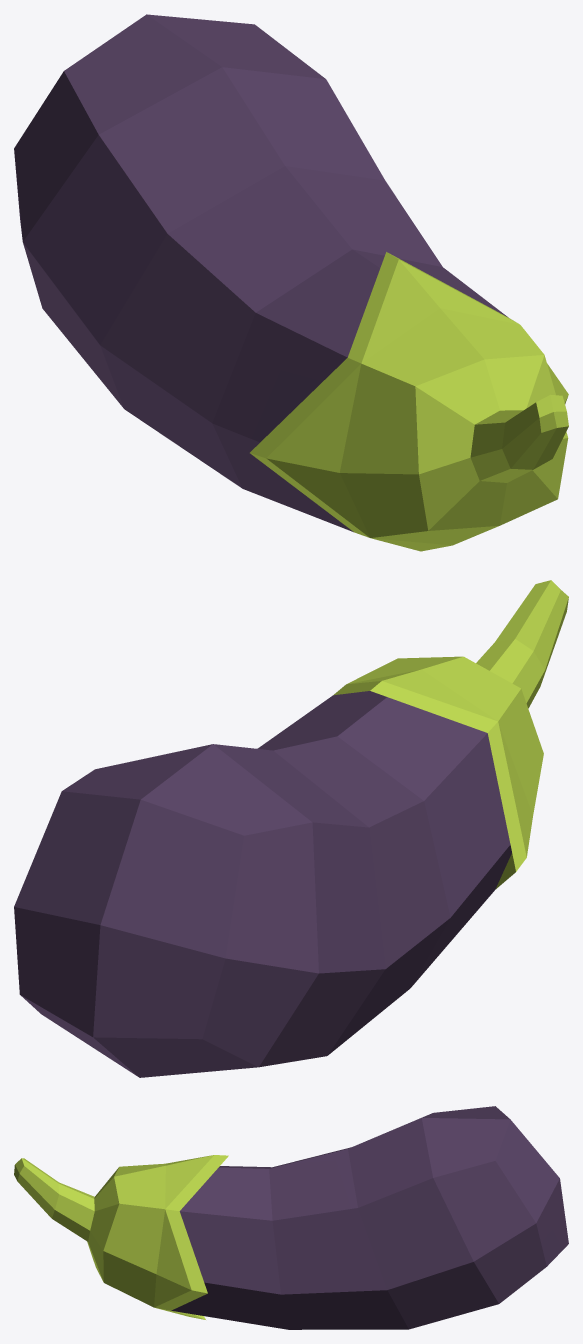
The model's file is eggplant_interactable.fbx.
3 renders of one model, top to bottom at view 1: azimuth 30°, elevation 25°; view 2: azimuth 150°, elevation 25°; view 3: azimuth 270°, elevation 25°, orthographic. The views are drawn at different scales.
Parts seen in each view (by area): view 1: eggplant_interactable; view 2: eggplant_interactable; view 3: eggplant_interactable.
Part boxes in pixels (x1,y1,x2,y2): eggplant_interactable: (14,14,568,551); eggplant_interactable: (14,580,568,1077); eggplant_interactable: (14,1106,568,1329).
Size of the model in its own units: 50.45 by 53.77 by 133.
